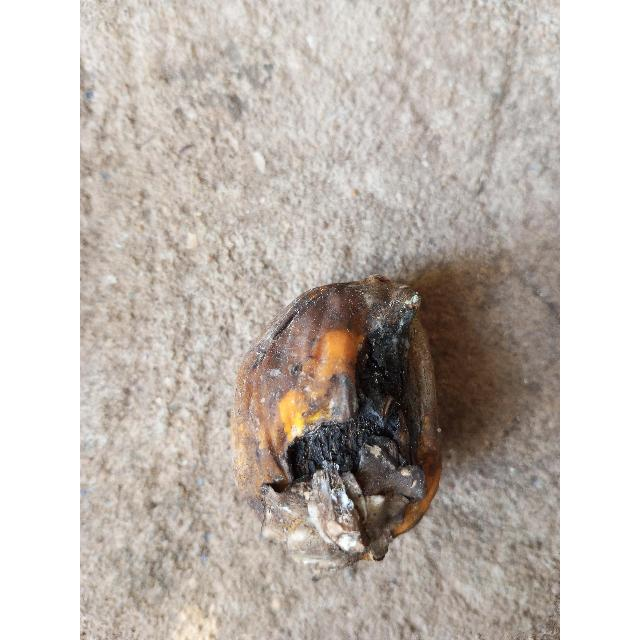damaged: (230, 277, 443, 564)
